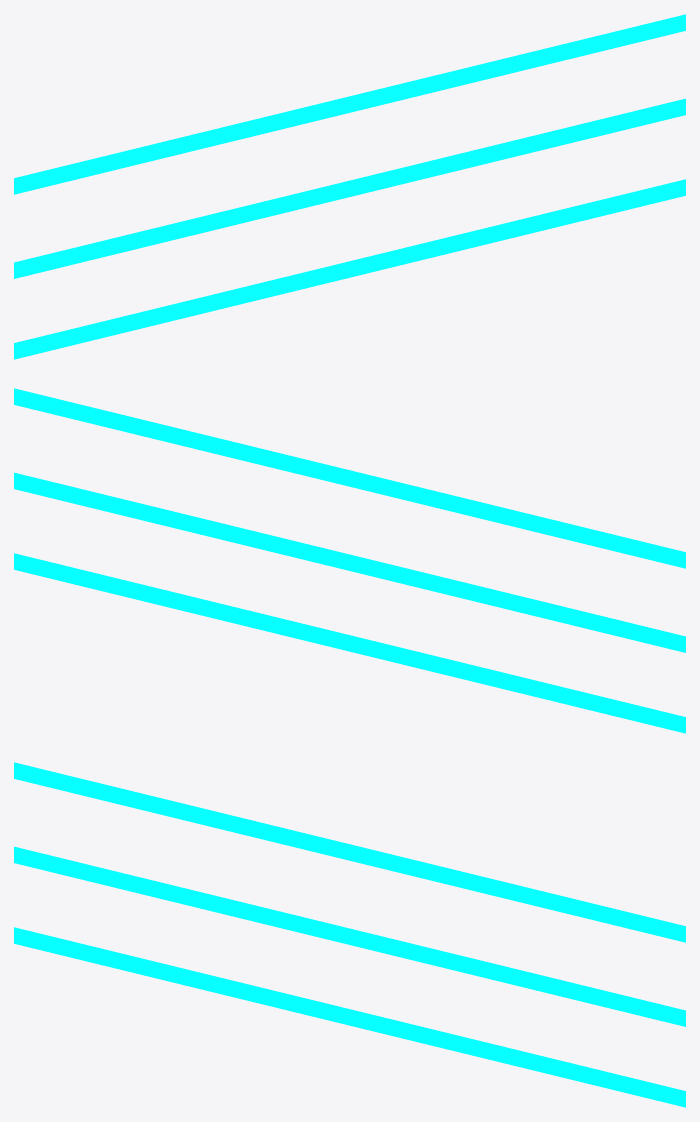
File: Hangar_ForcefieldRails_01.fbx
The picture shows the model from 3 angles, top to bottom: view 1: azimuth 30°, elevation 25°; view 2: azimuth 150°, elevation 25°; view 3: azimuth 330°, elevation 25°; orthographic projection.
Visible parts, largest first — view 1: ForceFieldRails_01; view 2: ForceFieldRails_01; view 3: ForceFieldRails_01.
Part boxes in pixels (box(x1,y1,x2,y2)): ForceFieldRails_01: box(14, 14, 685, 359); ForceFieldRails_01: box(14, 388, 685, 733); ForceFieldRails_01: box(14, 762, 685, 1107).
Bounding box in the file's own units: 810 × 209 × 0.
